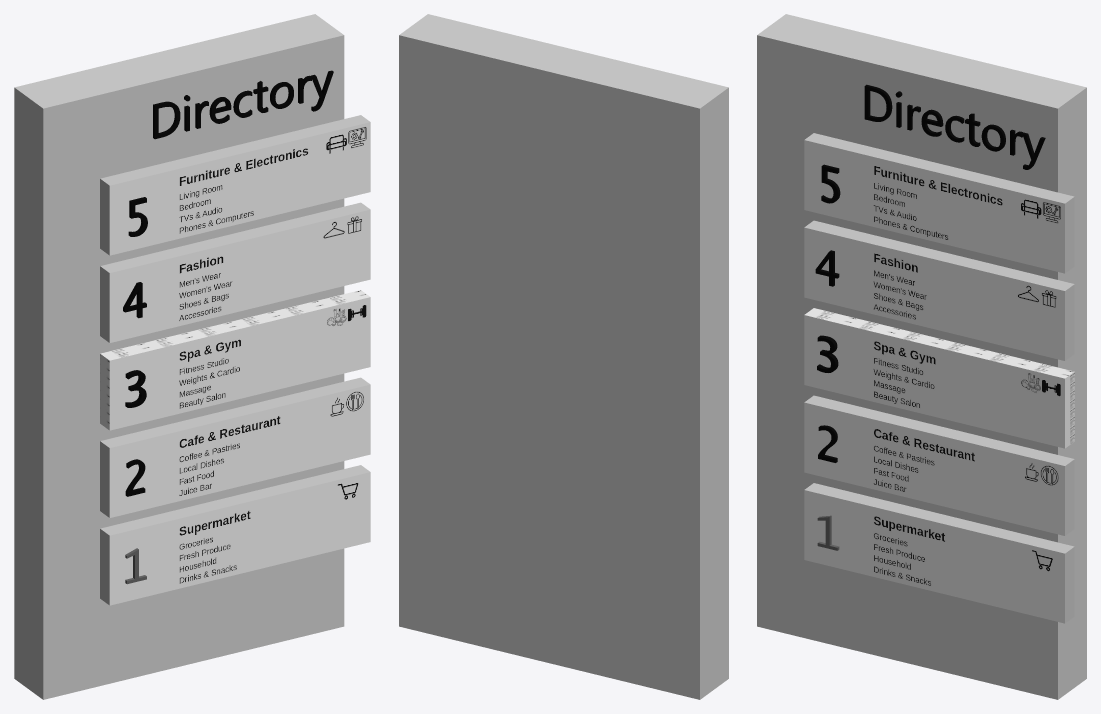
Rendered from mall_directory_optimised.glb.
3 renders of one model, left to right at view 1: azimuth 30°, elevation 25°; view 2: azimuth 150°, elevation 25°; view 3: azimuth 330°, elevation 25°, orthographic.
Parts seen in each view (by area): view 1: part0, part4, part2, part3, part6, part5, part7, part8; view 2: part0; view 3: part0, part4, part2, part3, part6, part5, part7, part8.
Boxes of the visible parts, x1,y1,x2,y2 form: part0: (14,14,344,699); part4: (100,290,370,430); part2: (109,472,370,605); part3: (109,384,370,517); part6: (109,122,370,255); part5: (109,209,370,342); part7: (100,115,370,605); part8: (123,70,333,496); part0: (399,14,728,699); part0: (757,14,1086,699); part4: (804,308,1074,448); part2: (804,490,1064,623); part3: (804,402,1064,535); part6: (804,140,1064,273); part5: (804,227,1064,360); part7: (804,133,1074,623); part8: (815,84,1045,462).
Size of the model in its own units: 2.85 by 5.07 by 0.6413.
9 materials, 5 textured.
